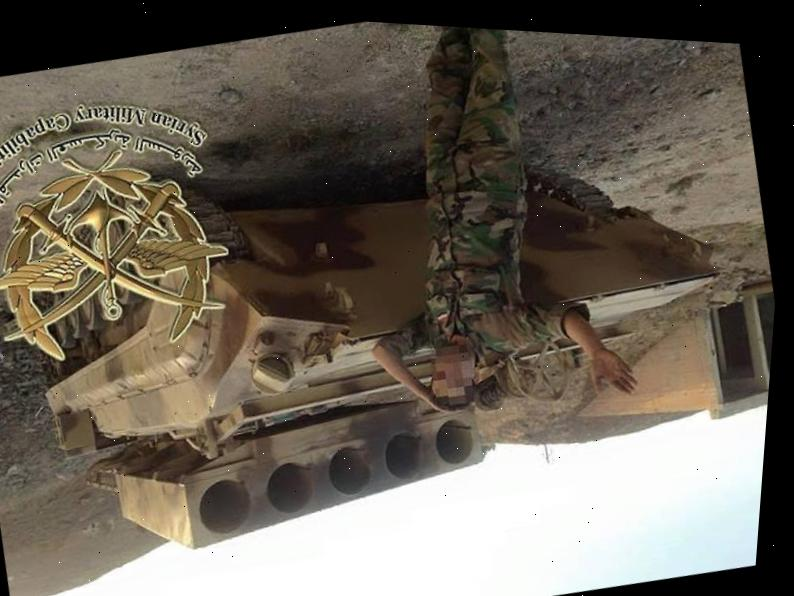rszo: (0, 85, 763, 596)
